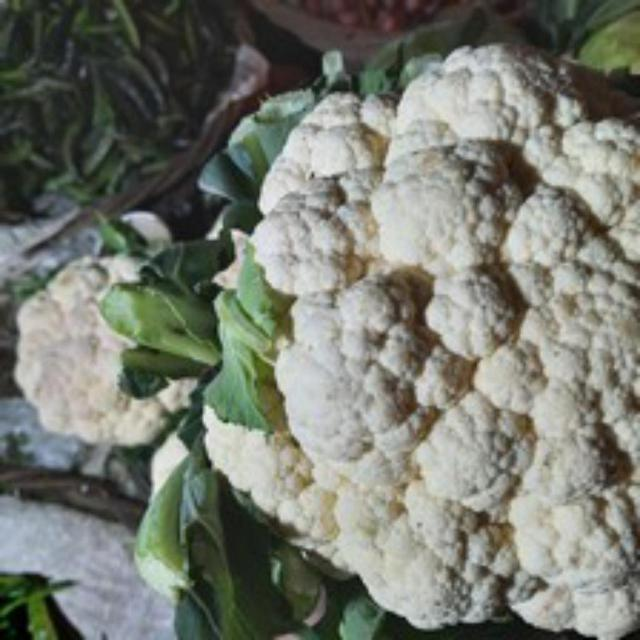cauliflower: (198, 40, 640, 640)
